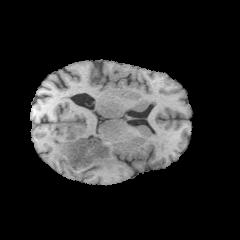glioma: (52, 129, 116, 176)
